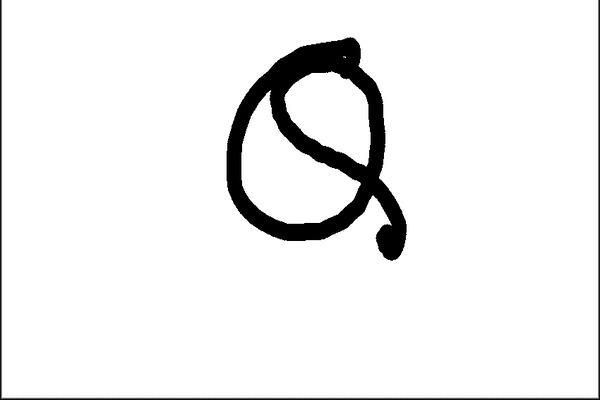Q: (211, 29, 424, 272)
